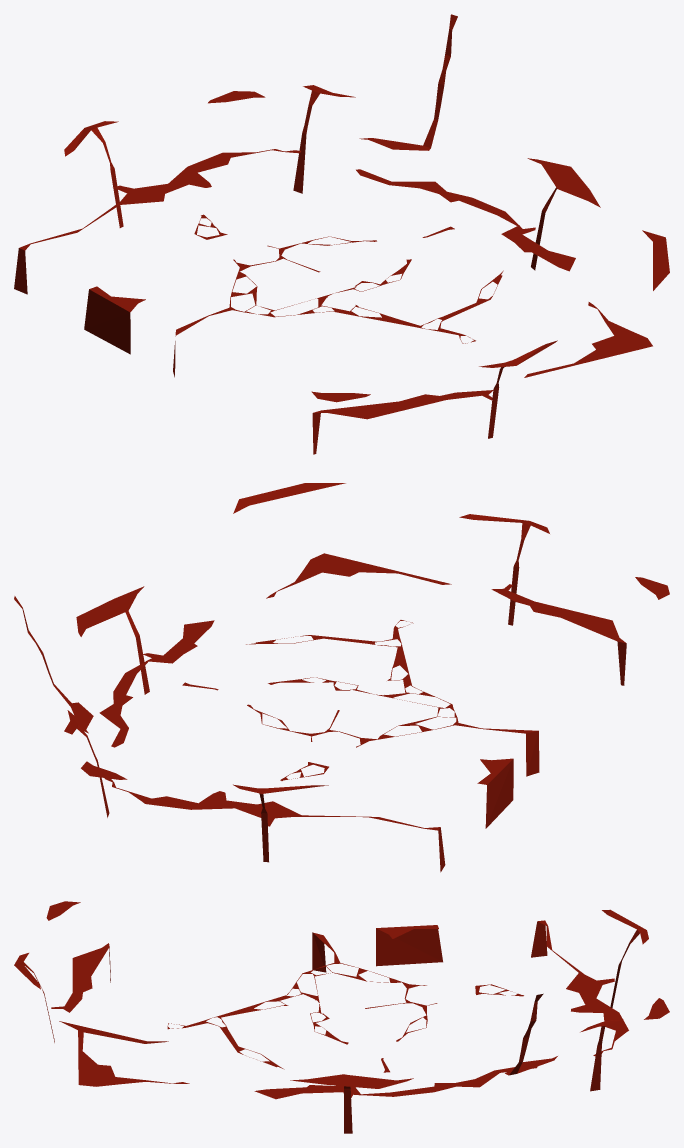
Rendered from Lava_01.FBX.
3 views of the same model, one above another, from view 1: azimuth 30°, elevation 25°; view 2: azimuth 150°, elevation 25°; view 3: azimuth 270°, elevation 25° (orthographic). The views are drawn at different scales.
Visible parts, largest first — view 1: Lava_01; view 2: Lava_01; view 3: Lava_01.
Part boxes in pixels (left/top/right/bottom): Lava_01: left=14, top=14, right=669, bottom=454; Lava_01: left=14, top=483, right=669, bottom=872; Lava_01: left=14, top=901, right=669, bottom=1133.
Size of the model in its own units: 21.11 by 7.49 by 28.78.
